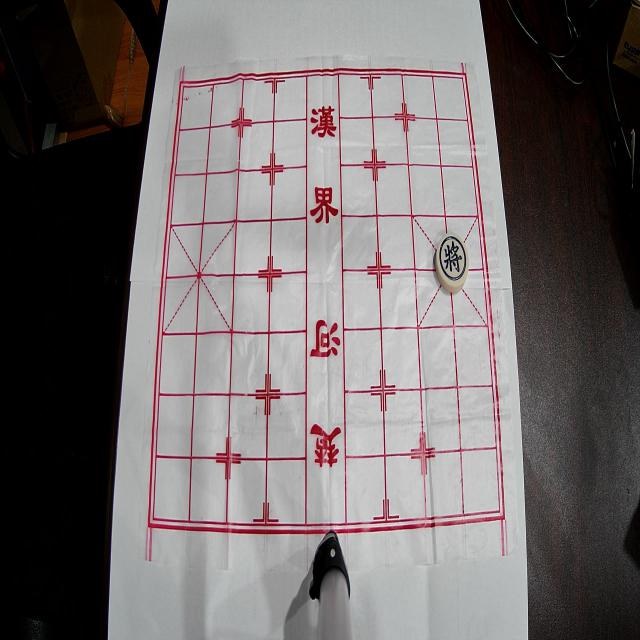black-general: (435, 234, 469, 294)
